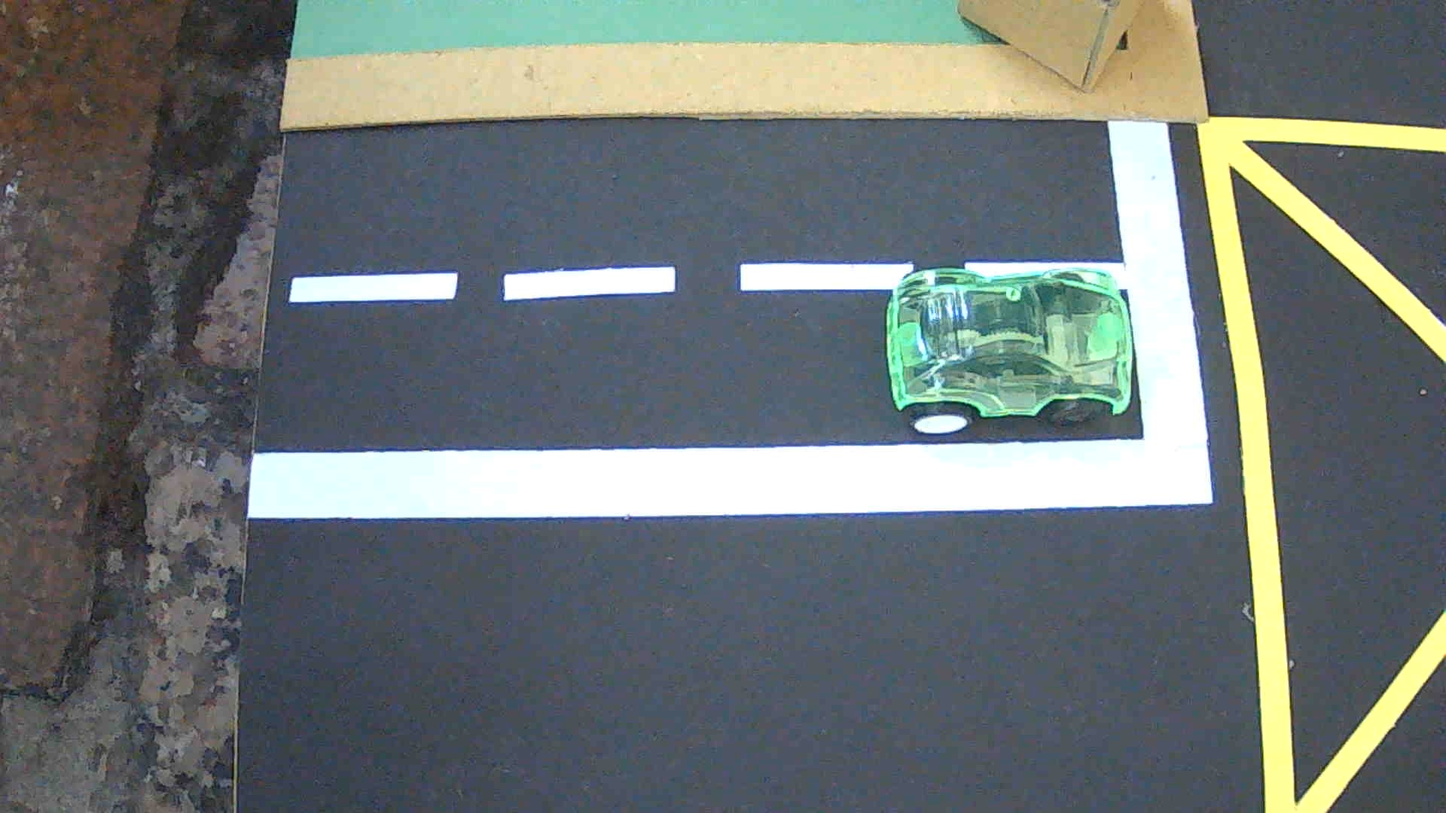Mobil hijau: (886, 267, 1133, 434)
